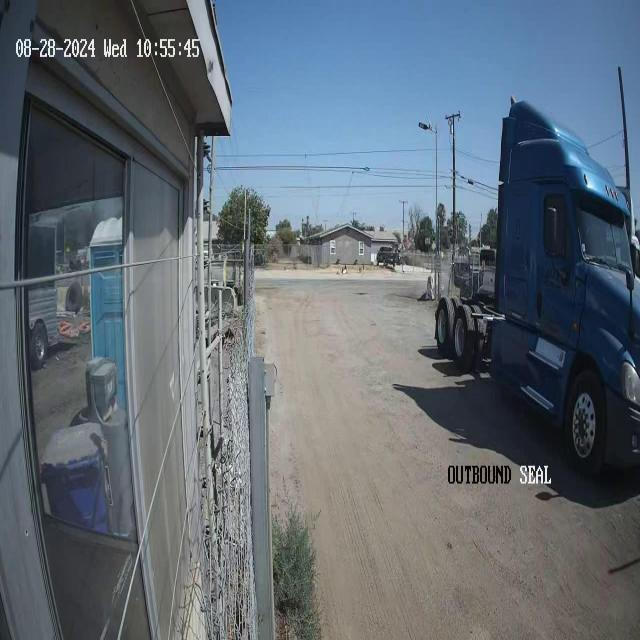TRUCK_IN: (434, 94, 640, 480)
